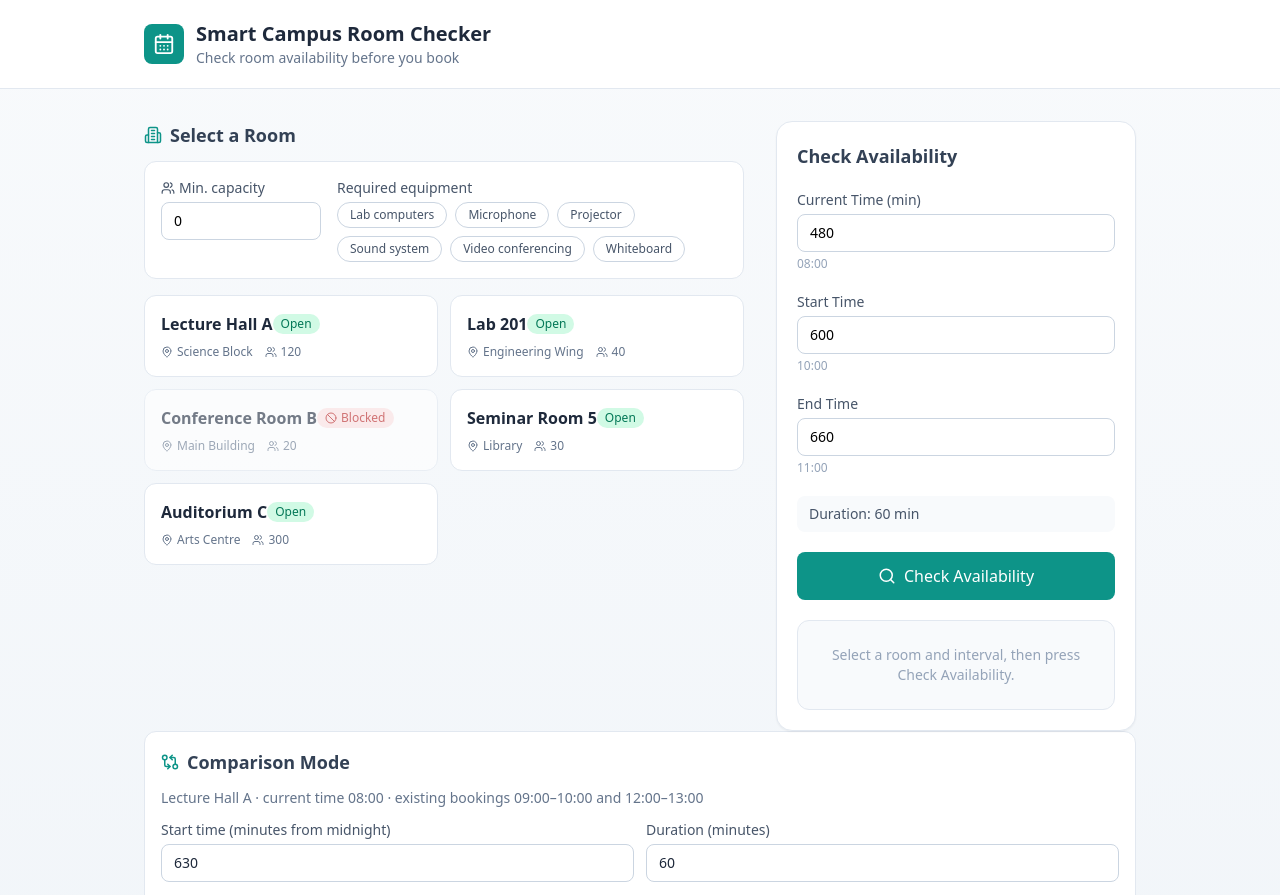
App integration tests › hides a stale result when start time changes
The image size is (1280, 895).
Click the button "Lecture Hall A Open Science Block 120": (291, 336) [144,295,438,377]
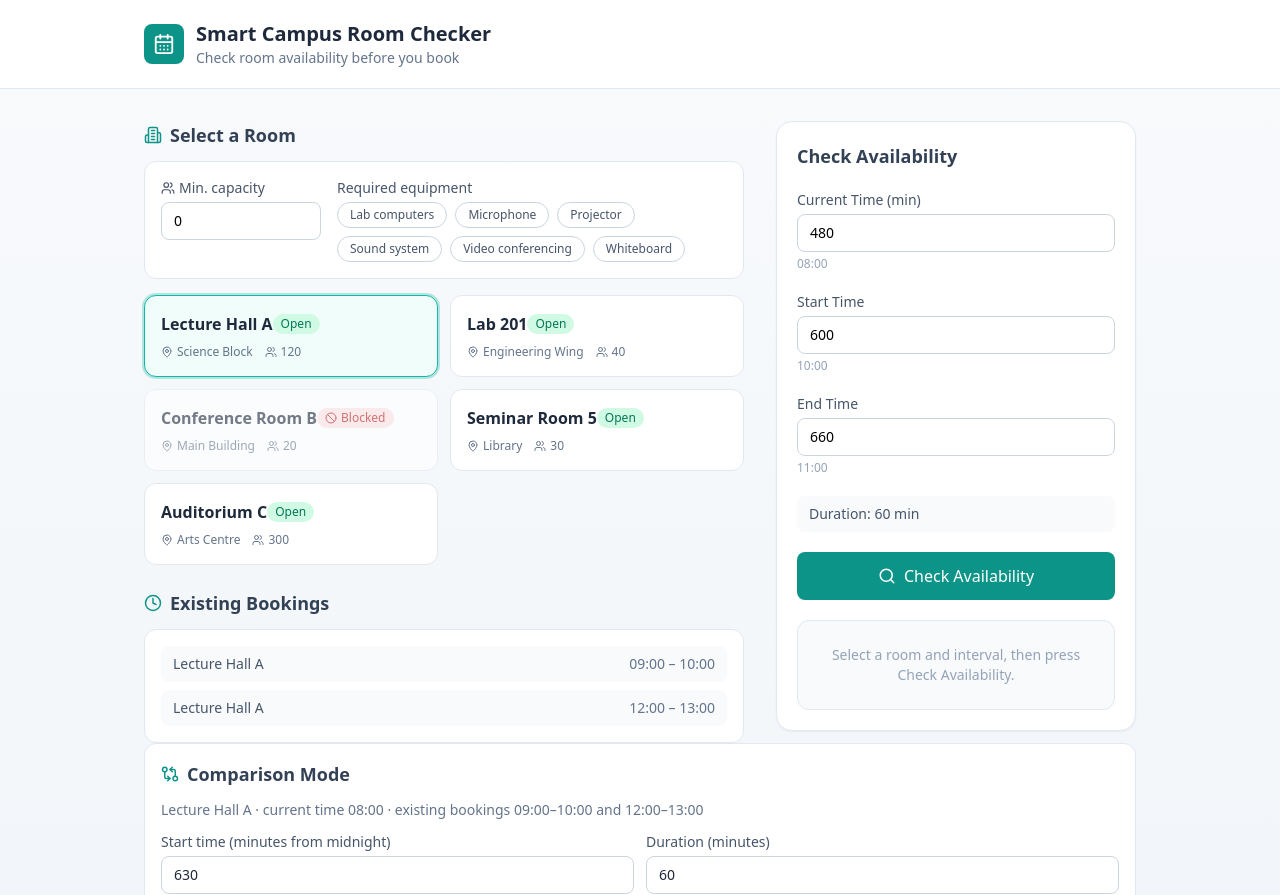
Click the button "Check Availability": (956, 576) [797,552,1115,600]
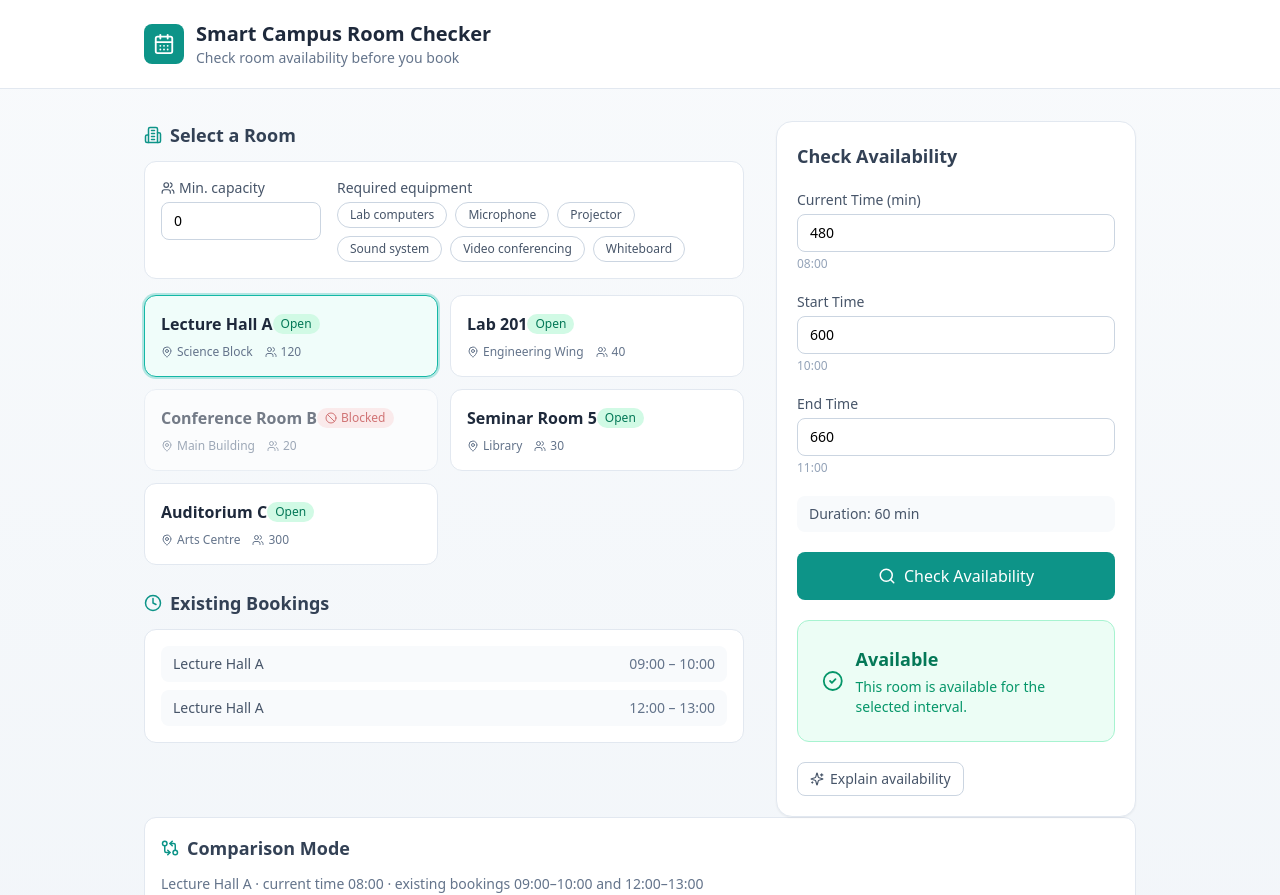
Expected: the text "Available" is shown, [856,647,938,671]
// Input order: current time, start time, end time
Replace the text in the number field below "Current Time (min)" with "610": (956, 233) [797,214,1115,252]
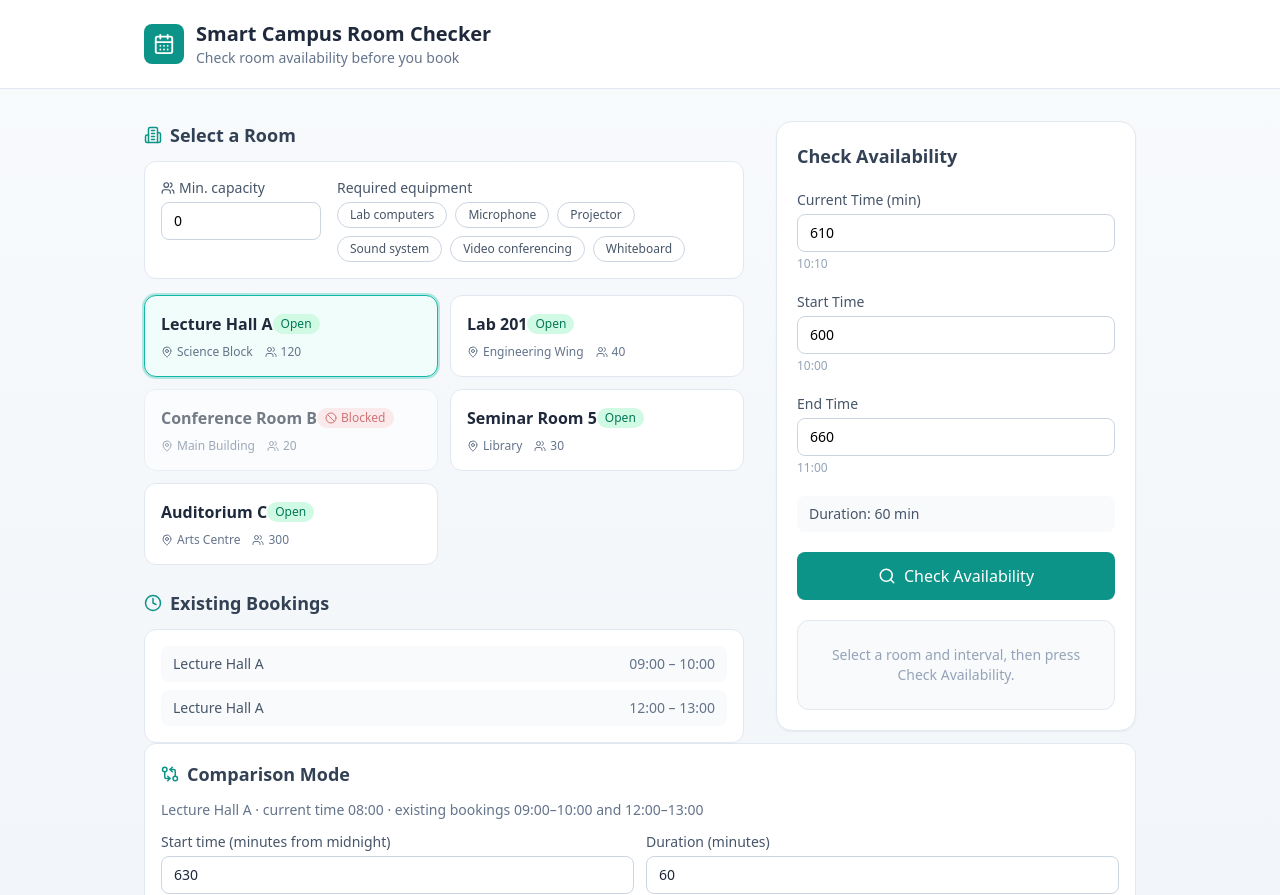
Expected: the text "Available" is gone
Expected: the text "Select a room and interval, then press Check Availability." is shown, [797,620,1115,710]
